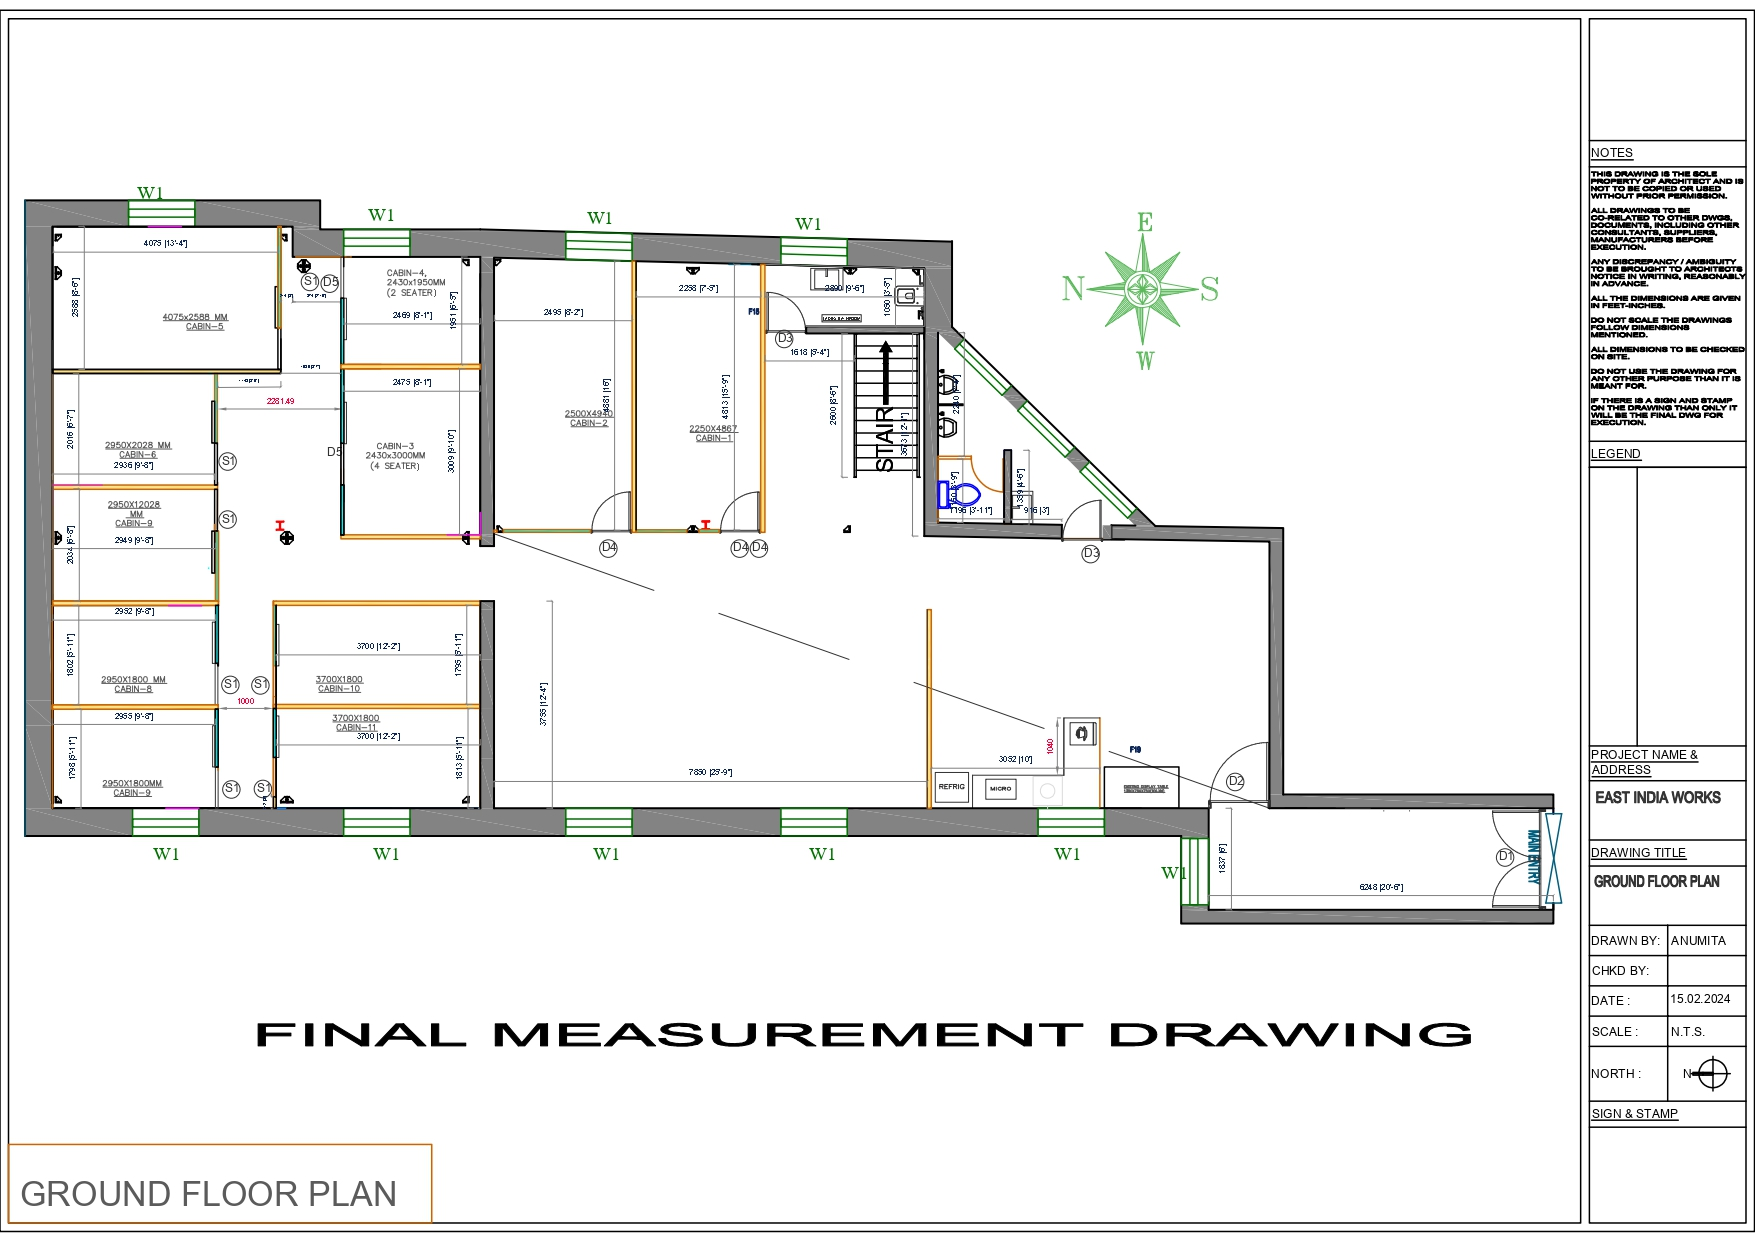door: (1208, 739, 1274, 807), (1489, 803, 1546, 860), (1490, 860, 1546, 913), (764, 287, 810, 333), (589, 486, 634, 533), (720, 489, 764, 535), (1062, 497, 1106, 540), (968, 457, 1007, 493)
